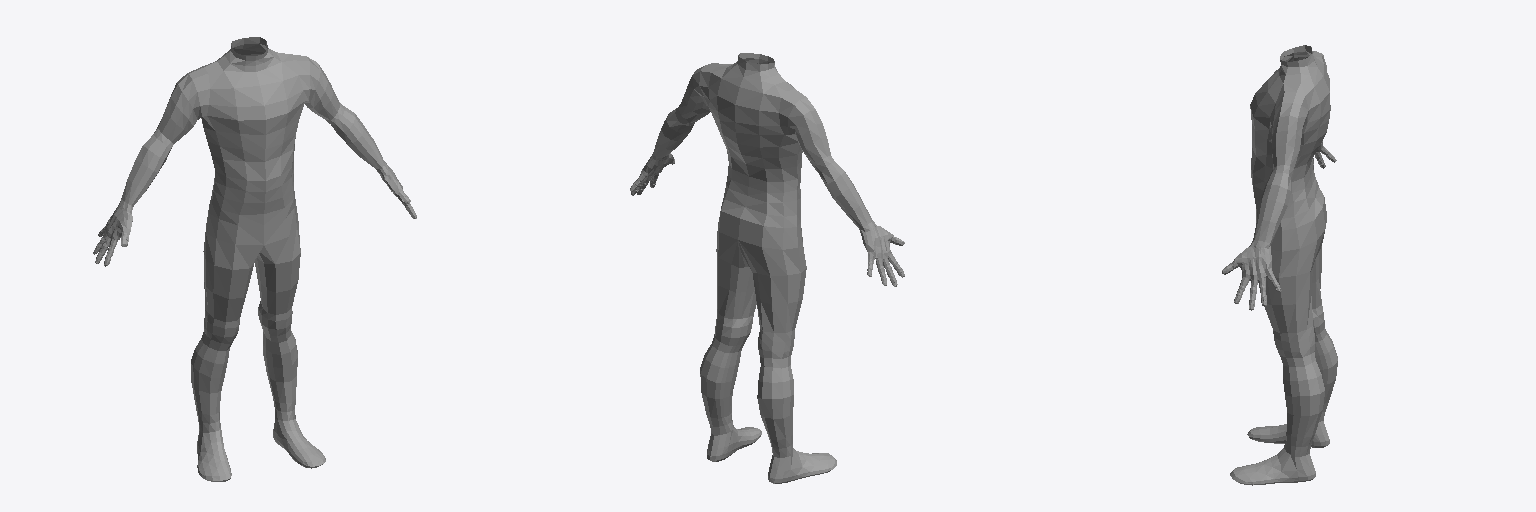
File: Male_base.obj
3 renders of one model, left to right at view 1: azimuth 30°, elevation 25°; view 2: azimuth 150°, elevation 25°; view 3: azimuth 270°, elevation 25°, orthographic.
Parts seen in each view (by area): view 1: Circle; view 2: Circle; view 3: Circle.
Boxes of the visible parts, x1=… form: Circle: x1=93, y1=37, x2=416, y2=481; Circle: x1=630, y1=53, x2=904, y2=483; Circle: x1=1222, y1=45, x2=1337, y2=485.
Size of the model in its own units: 3.62 by 4.89 by 1.26.